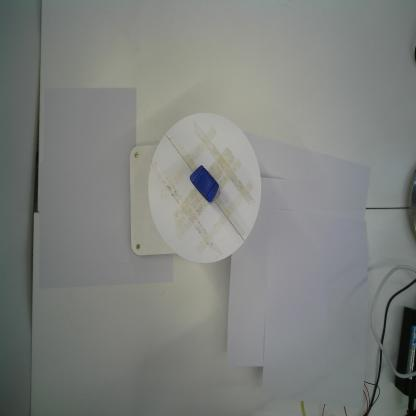Personal Hygiene: (190, 165, 219, 203)
